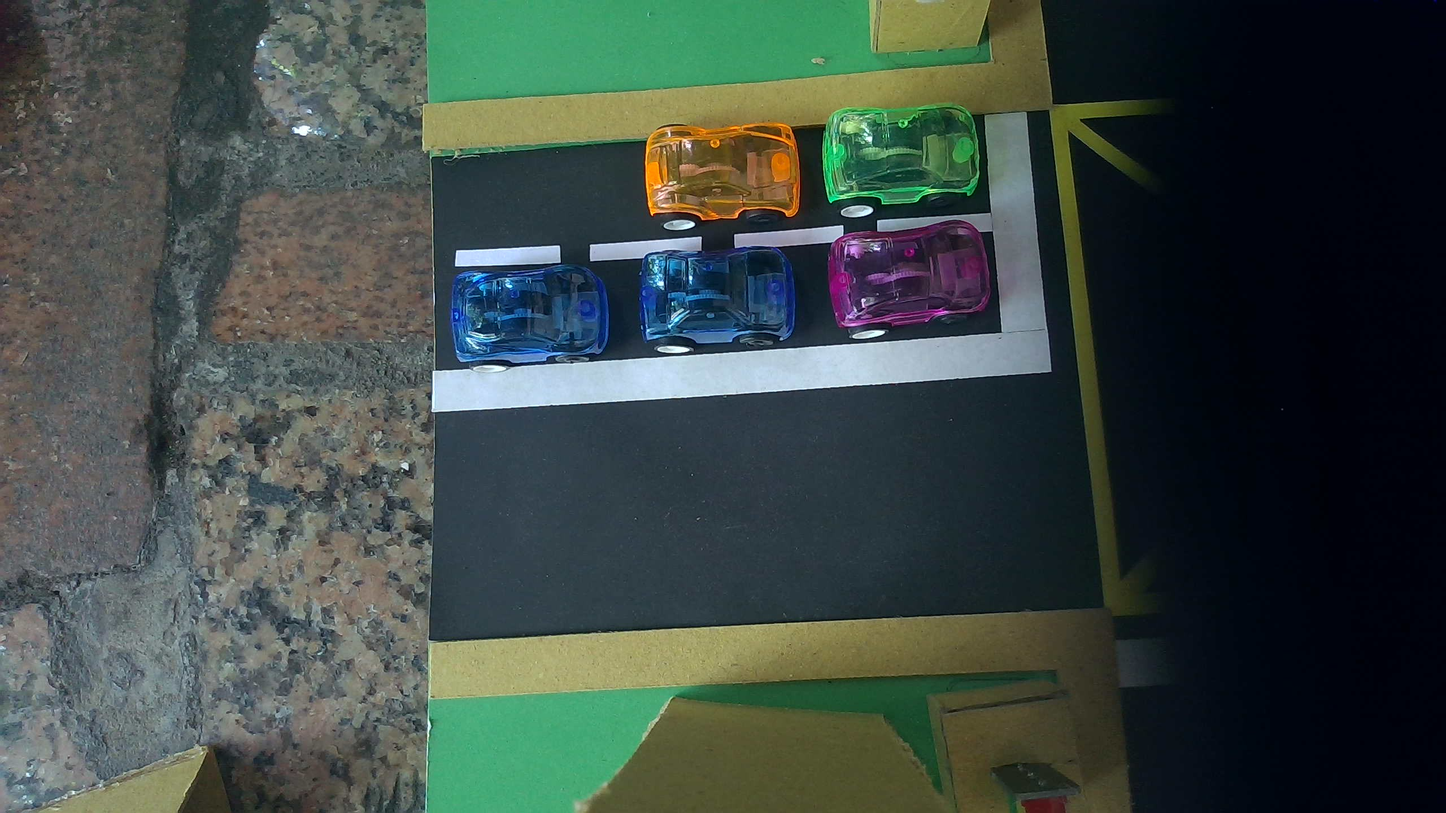Mobil biru: (451, 264, 610, 371), (639, 247, 795, 354)
Mobil hijau: (822, 104, 982, 217)
Mobil orange: (644, 123, 801, 230)
Mobil ungu: (827, 220, 991, 339)
